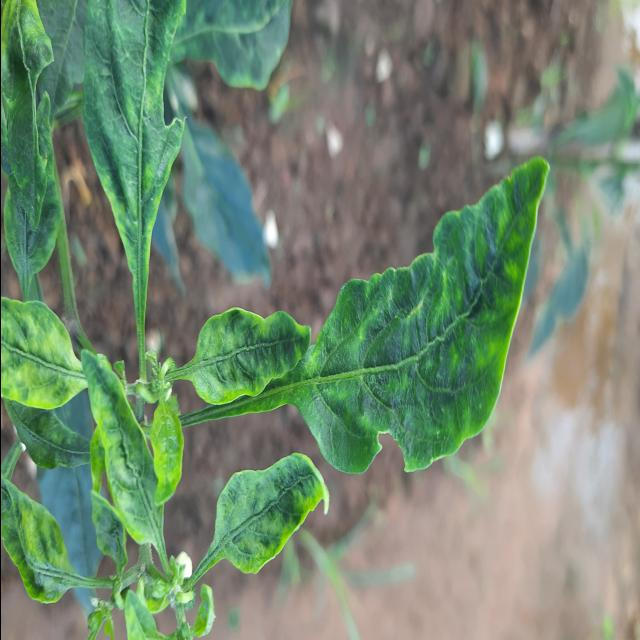thrips: (299, 137, 565, 494), (188, 253, 318, 413), (202, 446, 326, 592)
